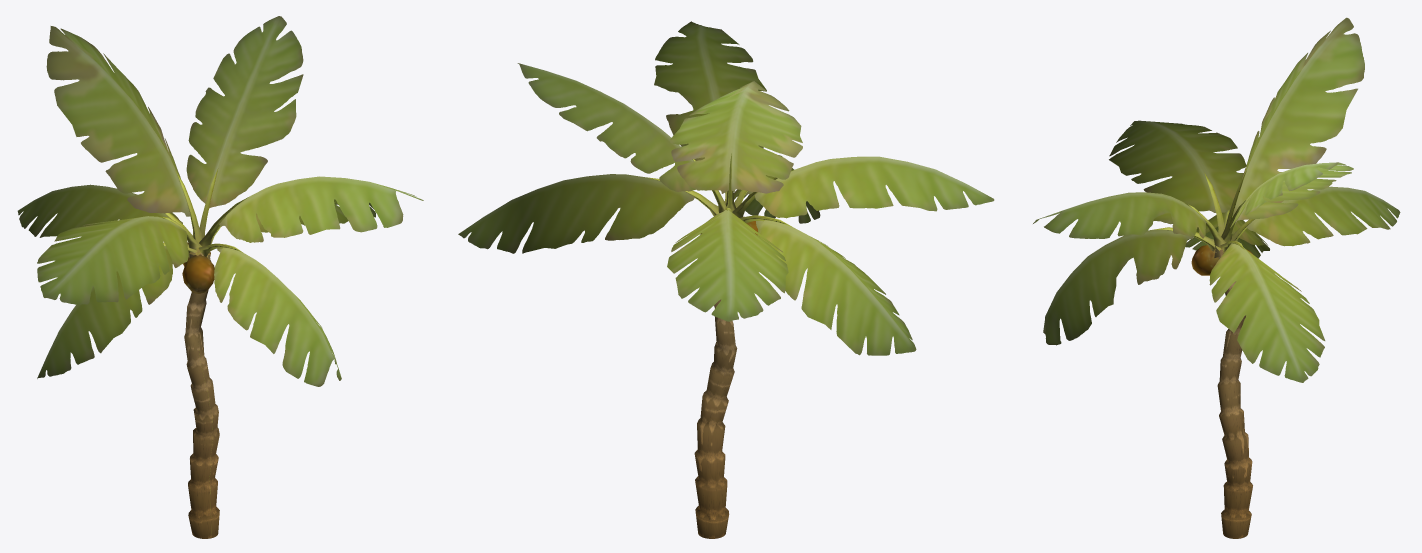
Rendered from coconut palm 04_lod1.obj.
3 views of the same model, side by side, from view 1: azimuth 30°, elevation 25°; view 2: azimuth 150°, elevation 25°; view 3: azimuth 270°, elevation 25° (orthographic). The views are drawn at different scales.
Visible parts, largest first — view 1: tree; view 2: tree; view 3: tree.
Boxes of the visible parts, x1,y1,x2,y2 form: tree: (17, 16, 423, 538); tree: (458, 21, 994, 538); tree: (1033, 17, 1400, 538).
Bounding box in the file's own units: 374 × 416 × 303.
